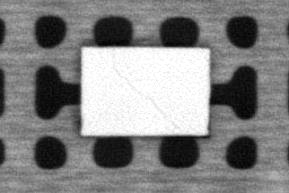DIE_CRACK: (112, 60, 180, 128)
